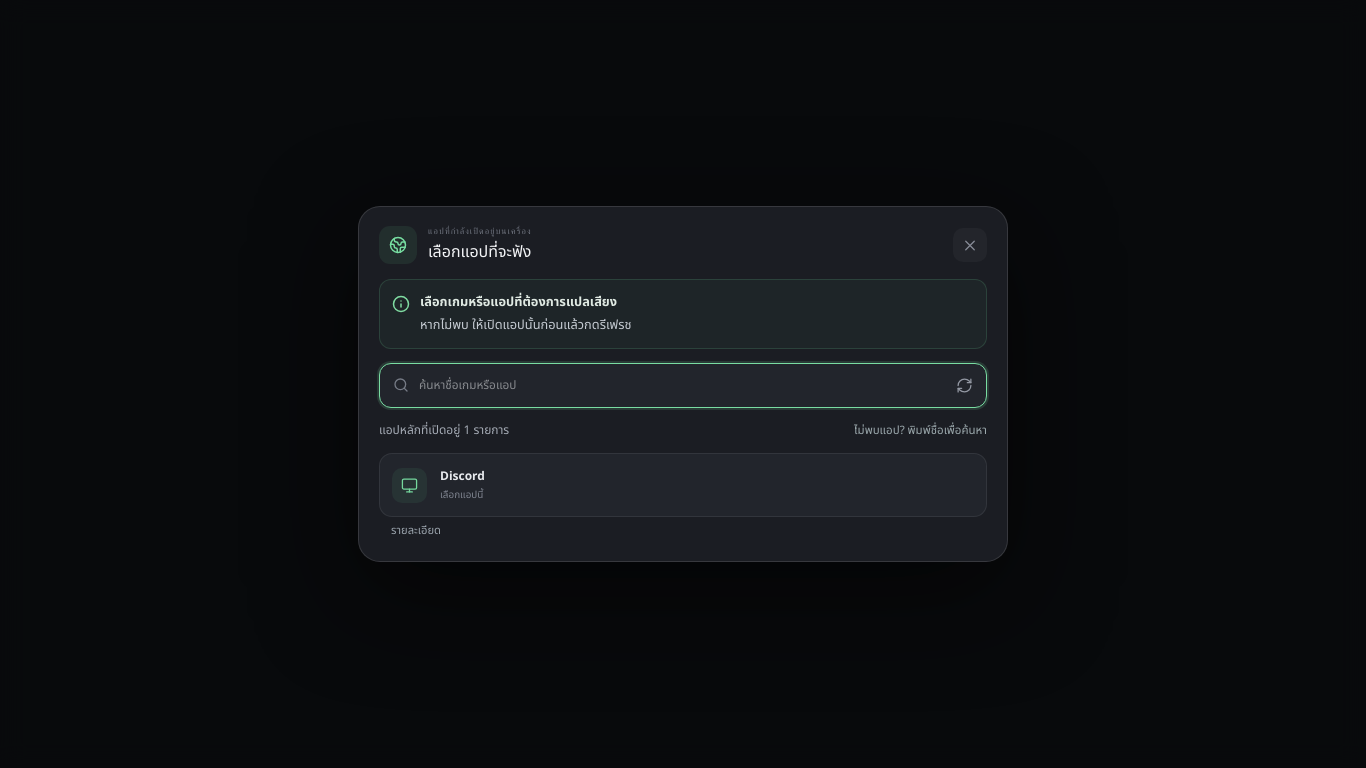
grouped running app picker › keeps the picker open and displays a stale selection error
Click the button with aria-label "เลือก Discord": [410, 485] box [379,453,987,517]
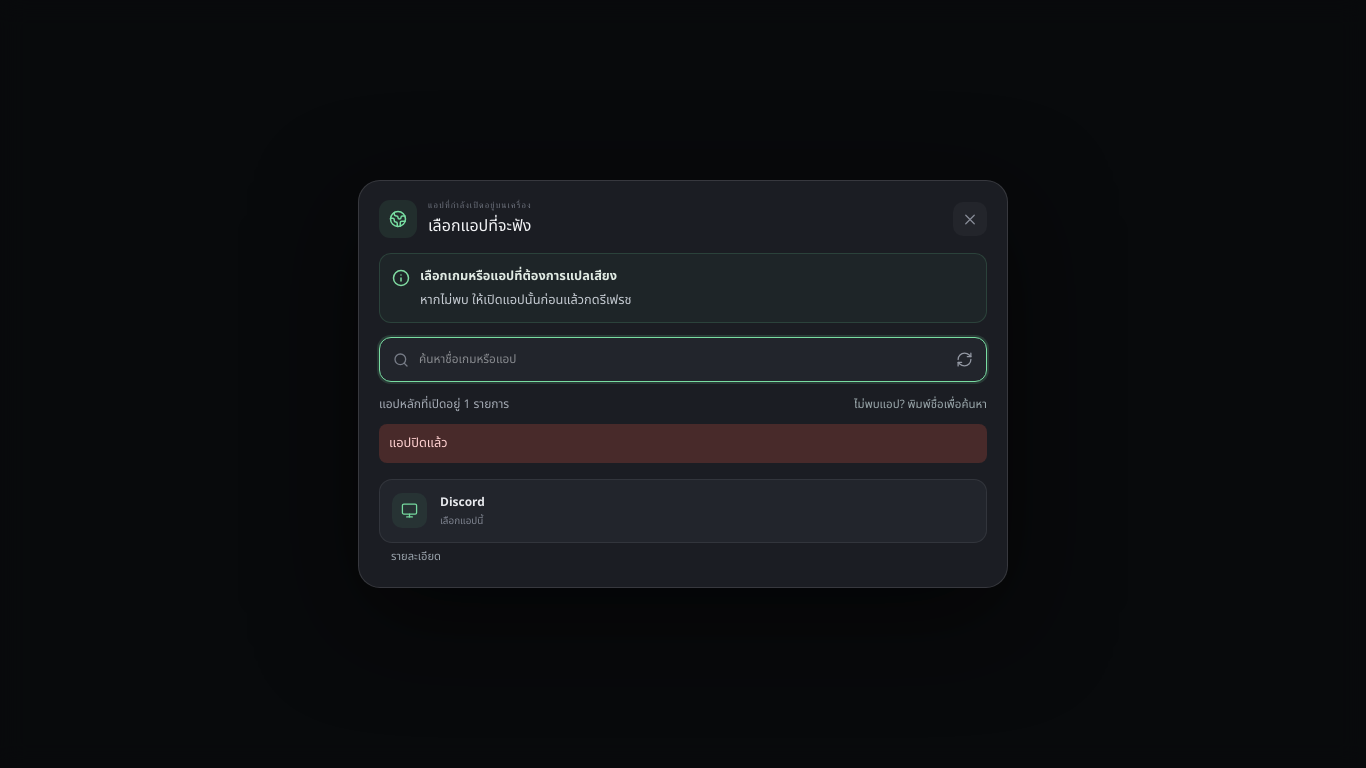
expect the message "แอปปิดแล้ว" is shown: met, box [379,424,987,463]
